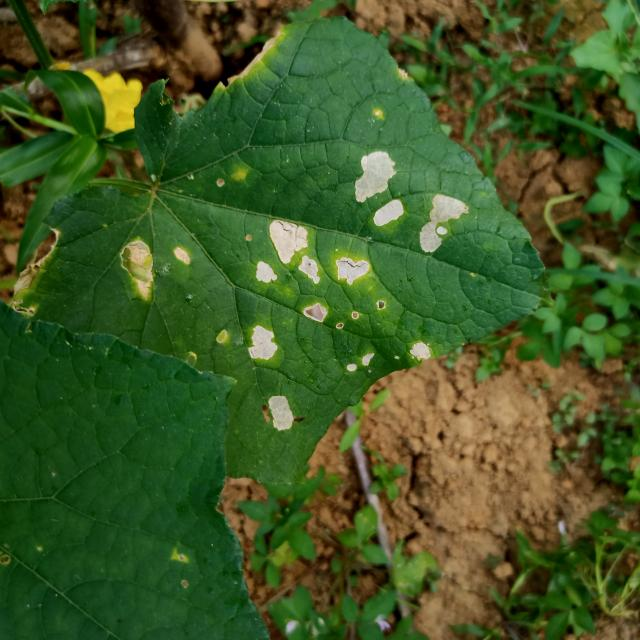disease_cucumber: (253, 217, 372, 323), (120, 235, 193, 301), (353, 147, 406, 227), (418, 190, 471, 254), (247, 322, 280, 362), (342, 345, 382, 376), (268, 389, 294, 434), (408, 339, 432, 363)
